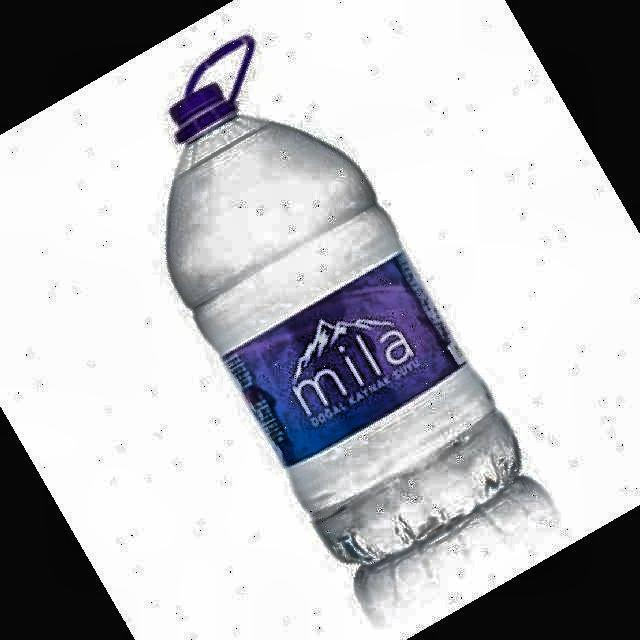plastic: (169, 35, 519, 566)
